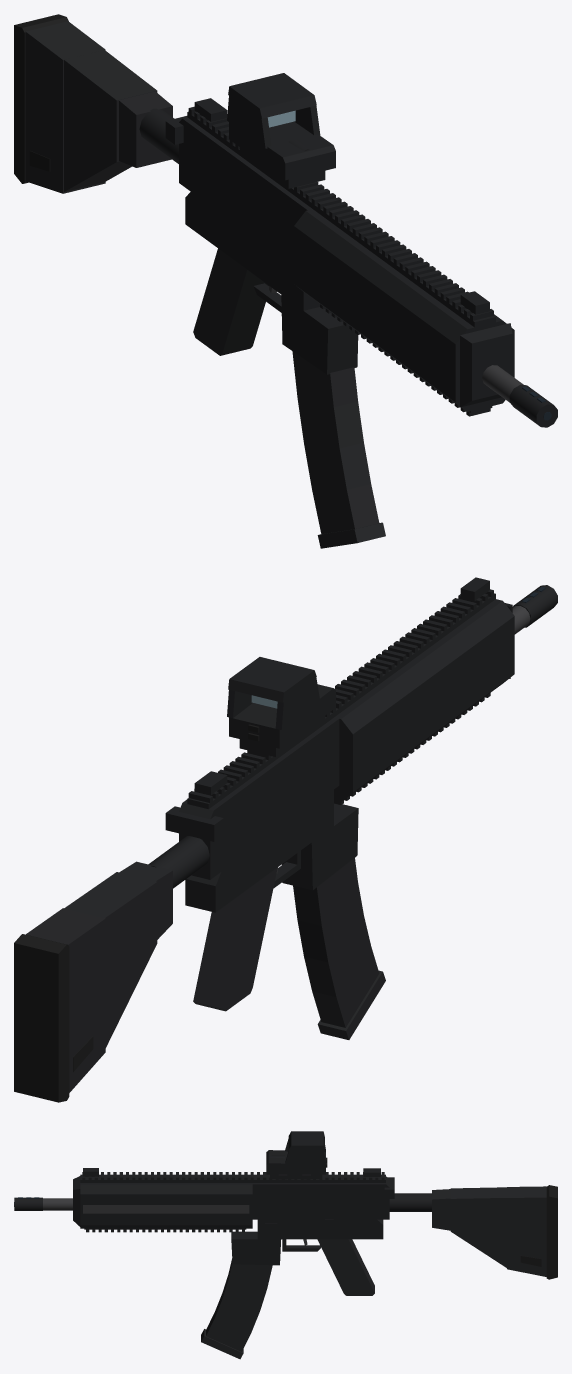
Rendered from rifle.glb.
3 views of the same model, one above another, from view 1: azimuth 30°, elevation 25°; view 2: azimuth 150°, elevation 25°; view 3: azimuth 270°, elevation 25° (orthographic). The views are drawn at different scales.
Parts seen in each view (by area): view 1: rifle; view 2: rifle; view 3: rifle.
Part boxes in pixels (box(x1,y1,x2,y2)): rifle: box(14, 14, 557, 548); rifle: box(14, 577, 557, 1102); rifle: box(14, 1131, 557, 1359).
Size of the model in its own units: 0.06 by 0.3845 by 0.8726.
1 material, 1 textured.
